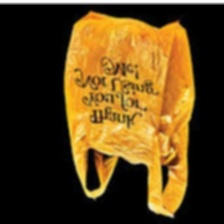plastic_bag: (60, 8, 205, 220)
